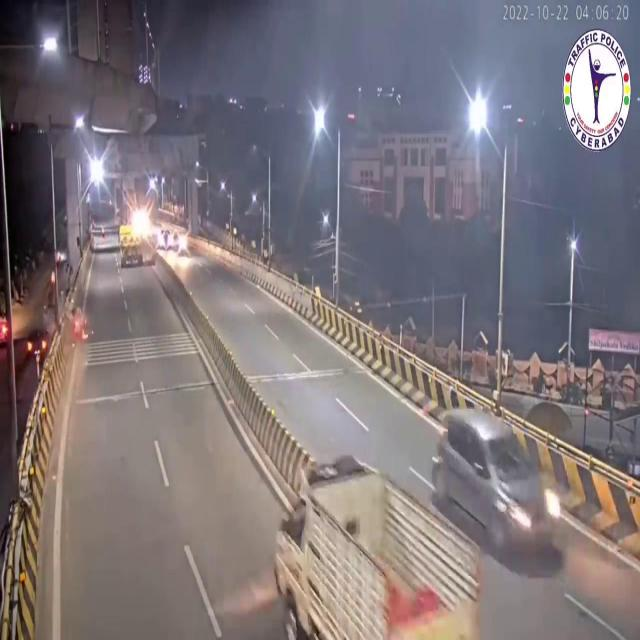accident: (62, 284, 98, 354)
